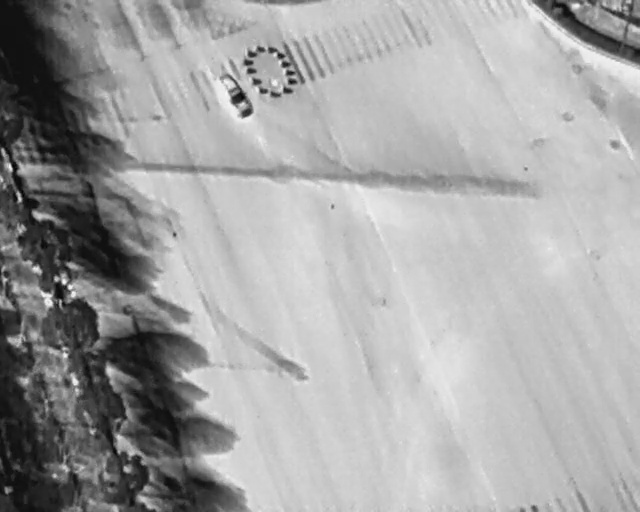Car: (215, 69, 257, 120)
